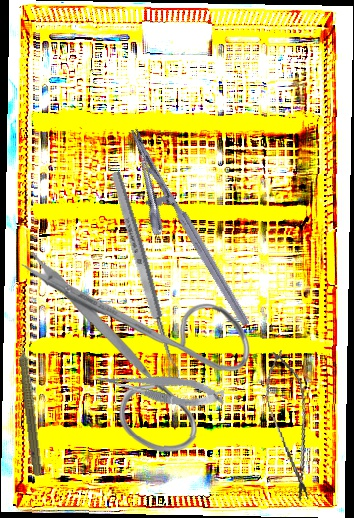Handpiece: (13, 330, 48, 477)
Iris Scissors: (17, 245, 252, 456)
Micro Scissor: (258, 347, 324, 504), (92, 356, 228, 418)
Needle Holder: (102, 126, 252, 343)
Surgical Spoon: (108, 170, 182, 380)
